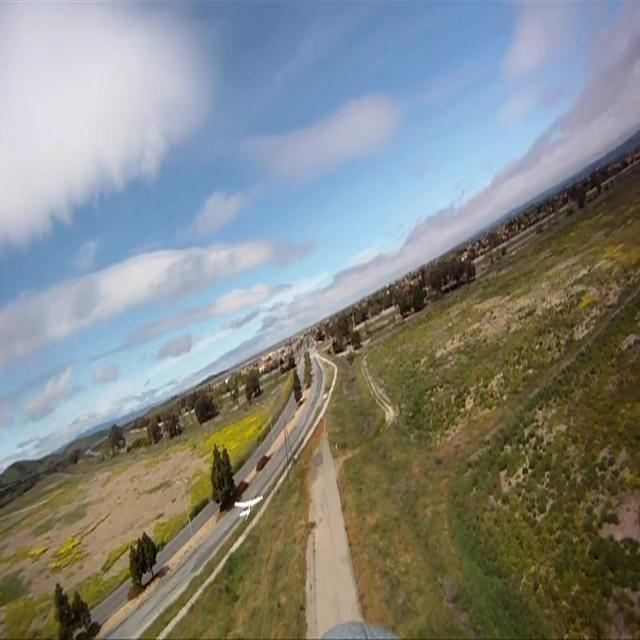iha: (233, 494, 263, 521)
